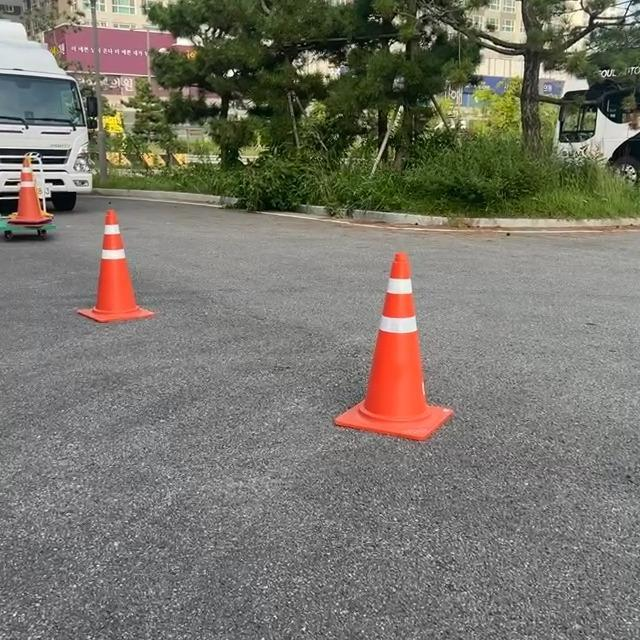fallen_object: (283, 226, 488, 466), (57, 210, 152, 346), (0, 143, 98, 248)
